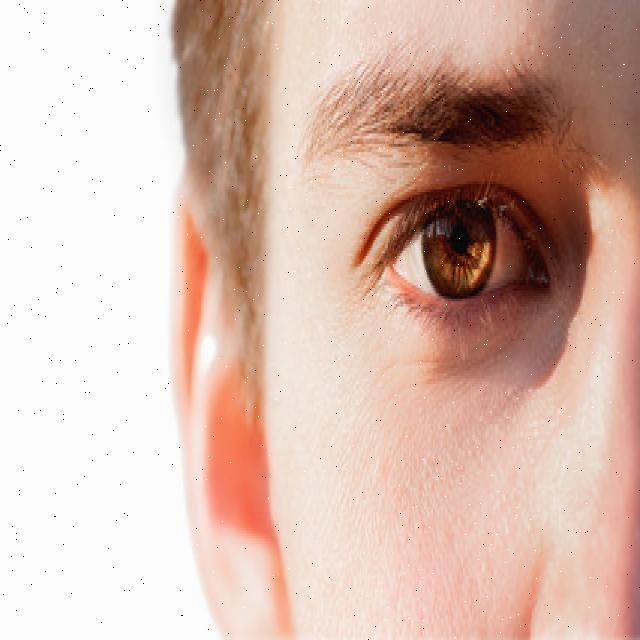Normal: (298, 126, 632, 412)
